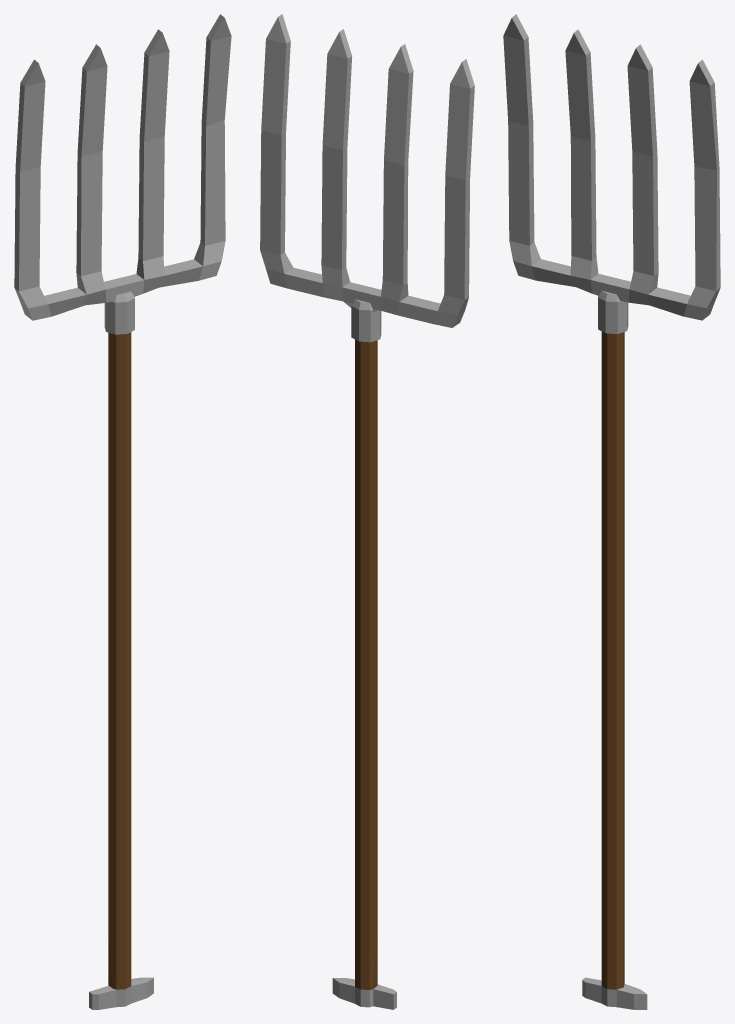
Rendered from HayFork.fbx.
The picture shows the model from 3 angles, left to right: view 1: azimuth 30°, elevation 25°; view 2: azimuth 150°, elevation 25°; view 3: azimuth 330°, elevation 25°; orthographic projection.
Visible parts, largest first — view 1: HayFork; view 2: HayFork; view 3: HayFork.
Boxes of the visible parts, x1,y1,x2,y2 form: HayFork: [14, 14, 231, 1009]; HayFork: [260, 14, 474, 1009]; HayFork: [503, 14, 720, 1009].
Bounding box in the file's own units: 30.15 × 135 × 4.46.
